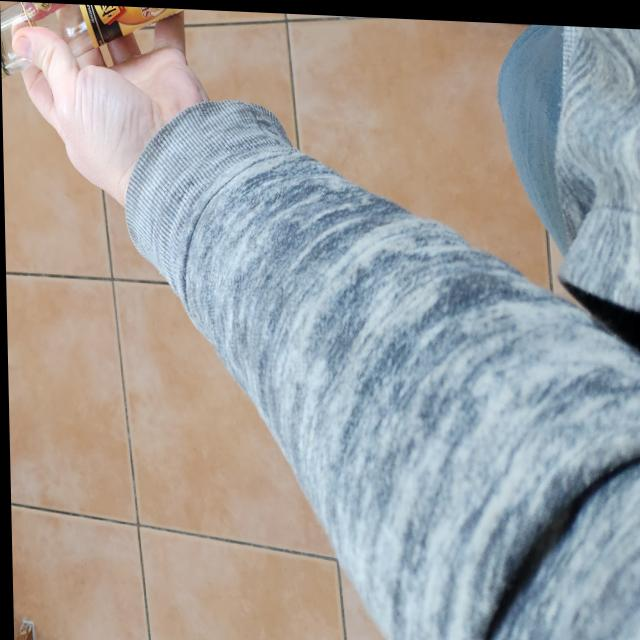sesame oil: (0, 0, 210, 99)
